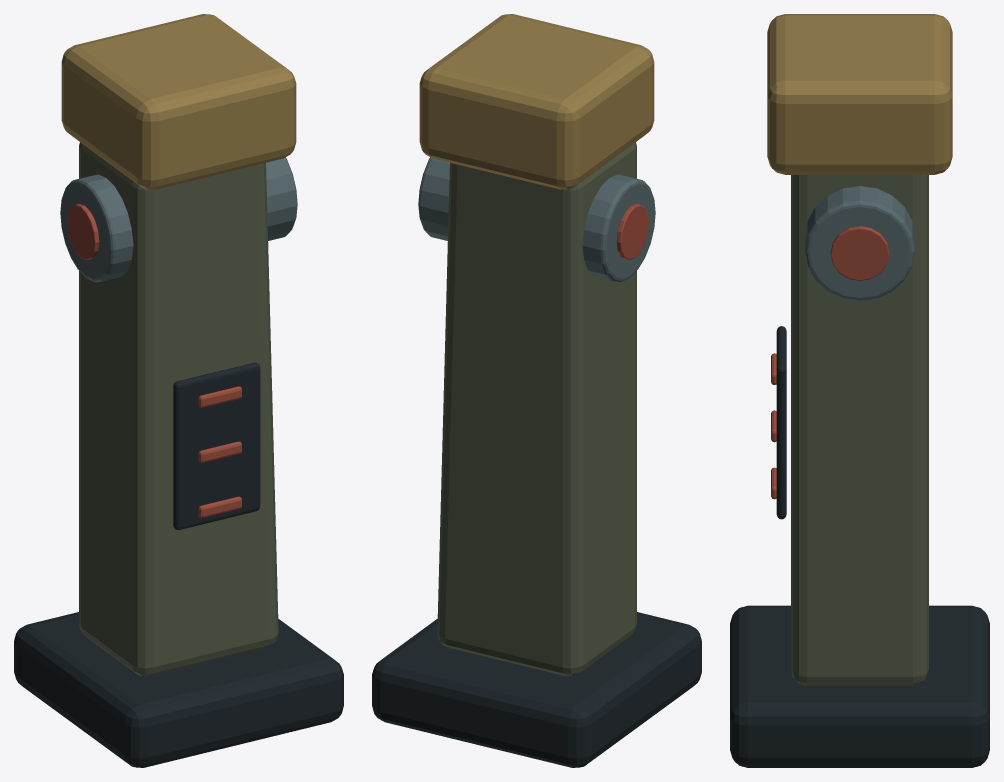
The model's file is LASER_FENCE_PYLON.hi.glb.
3 views of the same model, side by side, from view 1: azimuth 30°, elevation 25°; view 2: azimuth 150°, elevation 25°; view 3: azimuth 270°, elevation 25° (orthographic). The views are drawn at different scales.
Parts seen in each view (by area): view 1: Body_Mesh; view 2: Body_Mesh; view 3: Body_Mesh.
Boxes of the visible parts, box(x1,y1,x2,y2) form: Body_Mesh: box(14, 14, 343, 767); Body_Mesh: box(372, 14, 701, 767); Body_Mesh: box(730, 14, 989, 767).
Bounding box in the file's own units: 0.66 × 1.88 × 0.66.
